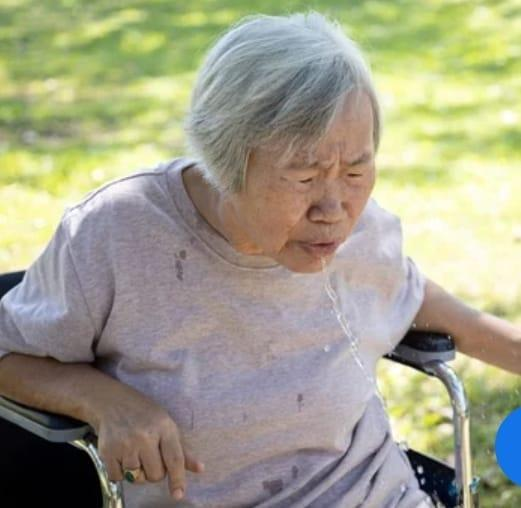Spitting: (142, 9, 431, 326)
